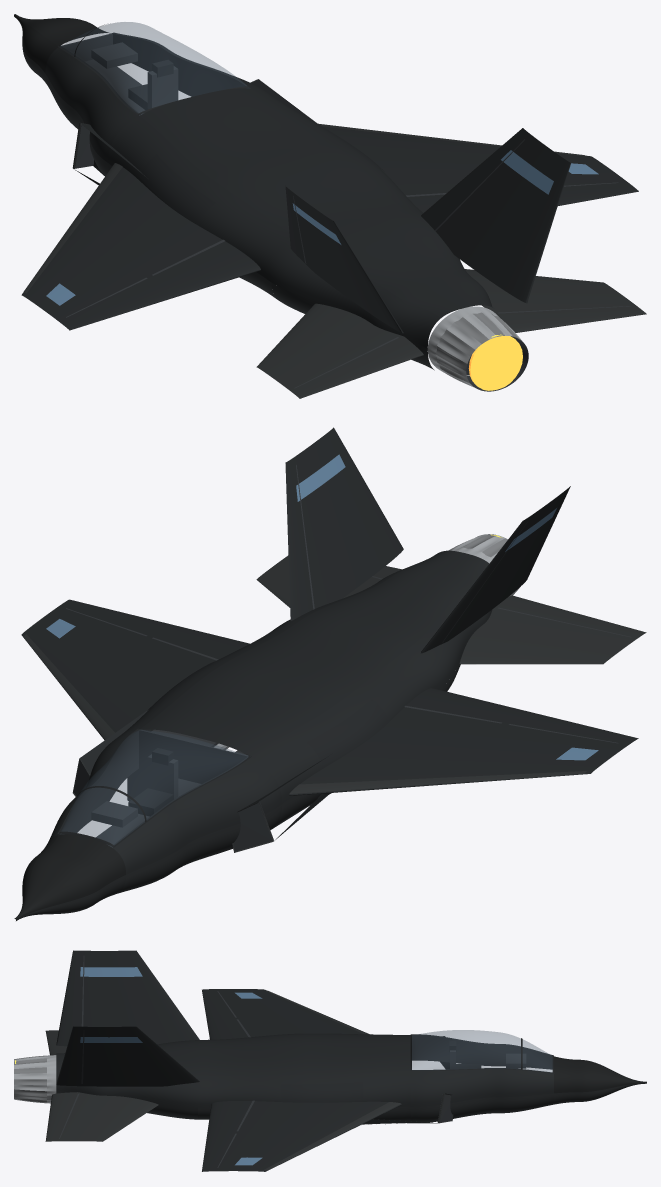
The picture shows the model from 3 angles, top to bottom: view 1: azimuth 30°, elevation 25°; view 2: azimuth 150°, elevation 25°; view 3: azimuth 270°, elevation 25°; orthographic projection. The views are drawn at different scales.
Parts seen in each view (by area): view 1: fuselage_top, wing_L, fin_R, fuselage_left, canopy, stabilizer_L, wing_R, stabilizer_R, fin_L, cockpit_skin_left, fuselage_right, cockpit_tub_R (+14 smaller); view 2: fuselage_top, wing_L, wing_R, fin_R, canopy, fuselage_left, stabilizer_L, cockpit_skin_left, fin_L, radome_top, cockpit_bulkhead_rear, cockpit_skin_belly (+15 smaller); view 3: fuselage_top, wing_R, fin_L, fuselage_right, fin_R, wing_L, canopy, cockpit_skin_right, stabilizer_R, cockpit_tub_L, cockpit_skin_belly, shoulder_access_R (+11 smaller).
Part boxes in pixels (x1,y1,x2,y2): fuselage_top: (140, 88, 488, 317); wing_L: (21, 167, 260, 330); fin_R: (421, 128, 570, 303); fuselage_left: (108, 116, 440, 348); canopy: (60, 22, 248, 115); stabilizer_L: (256, 303, 423, 398); wing_R: (322, 126, 638, 212); stabilizer_R: (465, 269, 646, 332); fin_L: (285, 186, 403, 333); cockpit_skin_left: (45, 47, 138, 162); fuselage_right: (251, 88, 492, 307); cockpit_tub_R: (113, 34, 248, 96); fuselage_top: (140, 550, 488, 755); wing_L: (289, 688, 638, 795); wing_R: (21, 599, 249, 740); fin_R: (285, 427, 403, 620); canopy: (61, 730, 248, 847); fuselage_left: (251, 564, 492, 803); stabilizer_L: (459, 595, 646, 664); cockpit_skin_left: (113, 757, 282, 874); fin_L: (421, 486, 570, 653); radome_top: (14, 834, 111, 918); cockpit_bulkhead_rear: (139, 730, 247, 783); cockpit_skin_belly: (117, 804, 282, 893); fuselage_top: (56, 1034, 410, 1075); wing_R: (202, 1101, 401, 1171); fin_L: (56, 950, 199, 1046); fuselage_right: (56, 1068, 410, 1107); fin_R: (56, 1026, 199, 1086); wing_L: (202, 989, 363, 1039); canopy: (412, 1030, 552, 1072); cockpit_skin_right: (410, 1069, 553, 1106); stabilizer_R: (45, 1092, 158, 1141); cockpit_tub_L: (412, 1035, 552, 1069); cockpit_skin_belly: (410, 1093, 553, 1123); shoulder_access_R: (280, 1082, 363, 1102).
Bounding box in the file's own units: 10.7 × 3.31 × 15.7.
